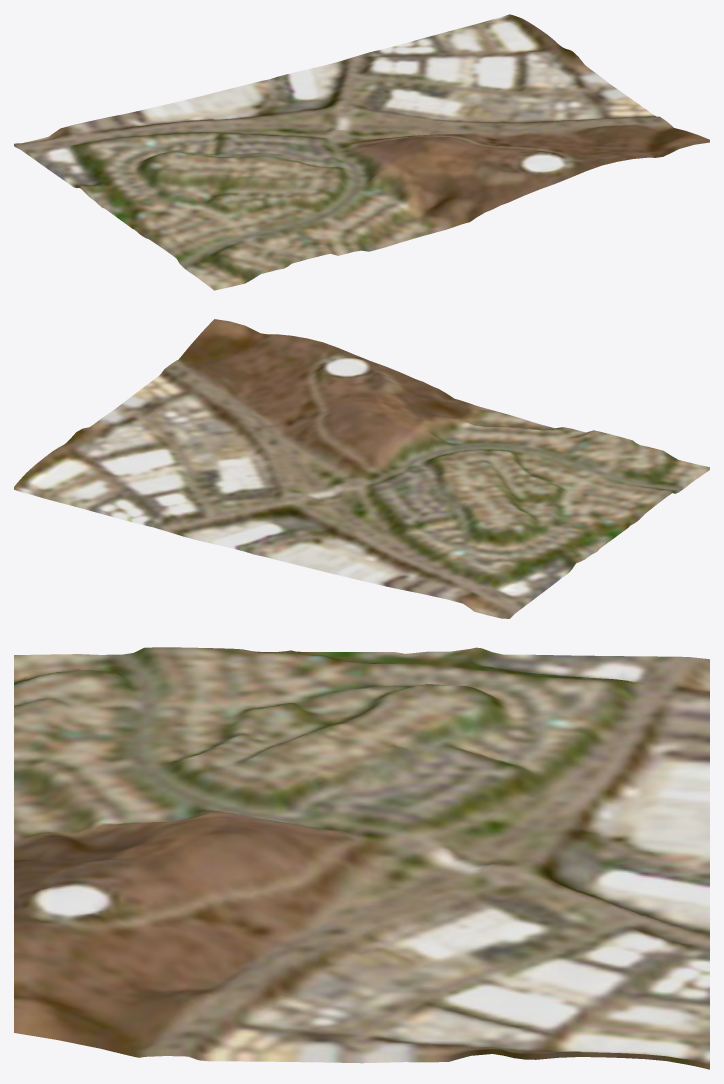
File: terrain_r4_c5_lod1.glb
3 views of the same model, one above another, from view 1: azimuth 30°, elevation 25°; view 2: azimuth 150°, elevation 25°; view 3: azimuth 270°, elevation 25° (orthographic). The views are drawn at different scales.
Parts seen in each view (by area): view 1: terrain_r4_c5_lod1; view 2: terrain_r4_c5_lod1; view 3: terrain_r4_c5_lod1.
Boxes of the visible parts, x1,y1,x2,y2 form: terrain_r4_c5_lod1: (14, 14, 709, 290); terrain_r4_c5_lod1: (14, 319, 709, 618); terrain_r4_c5_lod1: (14, 647, 709, 1069).
Size of the model in its own units: 1125 by 83.71 by 787.
Materials: 1 (1 with a texture image).
